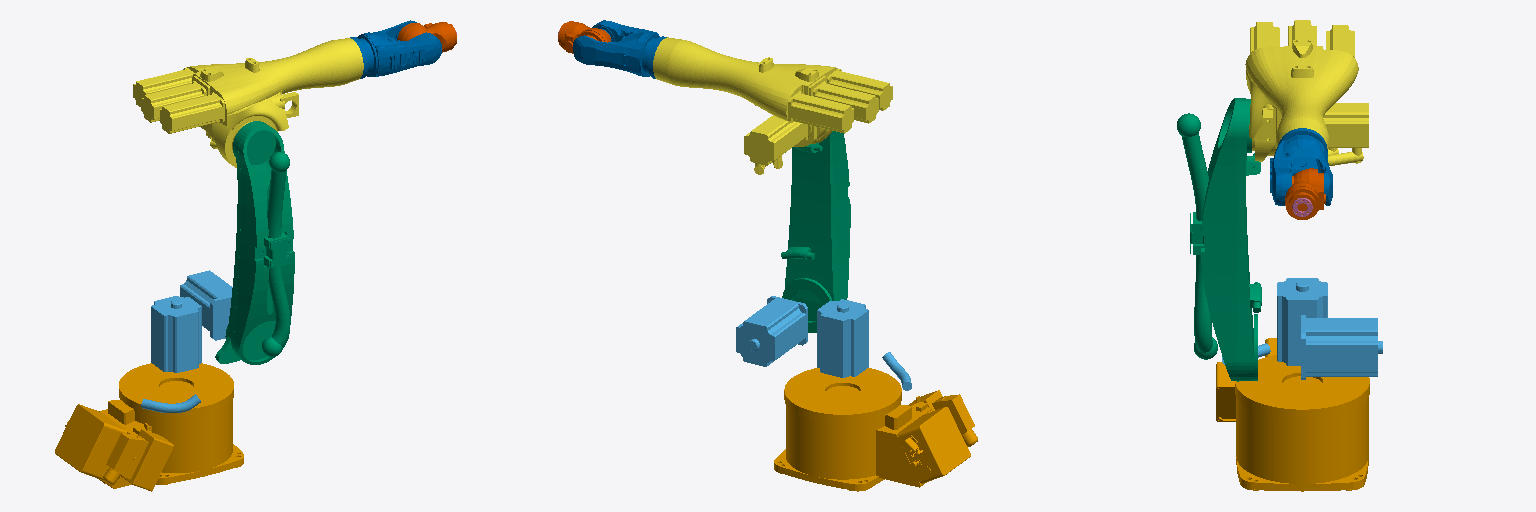
The robot description file, URDF, robot "kuka_kr5_arc":
<robot  name="kuka_kr5_arc">

<link name="Base"> 
 <visual> 
    <origin xyz="0 0 0" rpy="0 0 0" /> 
    <geometry> 
      <mesh filename="package://kuka_description/meshes/kuka_kr5_arc/visual/Base.stl" 
	scale=".001 .001 .001"/> 
      </geometry> 
 </visual> 
 <collision> 
    <origin xyz="0 0 0" rpy="0 0 0" /> 
    <geometry> 
      <mesh filename="package://kuka_description/meshes/kuka_kr5_arc/visual/Base.stl" 
	scale=".001 .001 .001"/> 
      </geometry> 
 </collision> 
</link>		

<link name="Link1"> 
 <visual> 
    <origin xyz="0 0 -0.225" rpy="0 0 0" /> 
    <geometry> 
      <mesh filename="package://kuka_description/meshes/kuka_kr5_arc/visual/Link1.stl" 
	scale=".001 .001 .001"/> 
      </geometry> 
 </visual> 
 <collision> 
    <origin xyz="0 0 -0.225" rpy="0 0 0" /> 
    <geometry> 
      <mesh filename="package://kuka_description/meshes/kuka_kr5_arc/visual/Link1.stl" 
	scale=".001 .001 .001"/> 
      </geometry> 
 </collision> 
</link>

<link name="Link2"> 
 <visual> 
    <origin xyz="-0.180 0 -0.400" rpy="0 0 0" /> 
    <geometry> 
      <mesh filename="package://kuka_description/meshes/kuka_kr5_arc/visual/Link2.stl" 
	scale=".001 .001 .001"/> 
      </geometry> 
 </visual> 
 <collision> 
    <origin xyz="-0.180 0 -0.400" rpy="0 0 0" /> 
    <geometry> 
      <mesh filename="package://kuka_description/meshes/kuka_kr5_arc/visual/Link2.stl" 
	scale=".001 .001 .001"/> 
      </geometry> 
 </collision> 
</link>			

<link name="Link3"> 
 <visual> 
    <origin xyz="-0.180 0 -1.0" rpy="0 0 0" /> 
    <geometry> 
      <mesh filename="package://kuka_description/meshes/kuka_kr5_arc/visual/Link3.stl" 
	scale=".001 .001 .001"/> 
      </geometry> 
 </visual> 
 <collision> 
    <origin xyz="-0.180 0 -1.0" rpy="0 0 0" /> 
    <geometry> 
      <mesh filename="package://kuka_description/meshes/kuka_kr5_arc/visual/Link3.stl" 
	scale=".001 .001 .001"/> 
      </geometry> 
 </collision> 
</link>			

<link name="Link4"> 
 <visual> 
    <origin xyz="-0.5835 0 -1.12" rpy="0 0 0" /> 
    <geometry> 
      <mesh filename="package://kuka_description/meshes/kuka_kr5_arc/visual/Link4.stl" 
	scale=".001 .001 .001"/> 
      </geometry> 
 </visual> 
 <collision> 
    <origin xyz="-0.5835 0 -1.12" rpy="0 0 0" /> 
    <geometry> 
      <mesh filename="package://kuka_description/meshes/kuka_kr5_arc/visual/Link4.stl" 
	scale=".001 .001 .001"/> 
      </geometry> 
 </collision> 
</link>	

<link name="Link5">
 <visual> 
    <origin xyz="-0.800 0 -1.12" rpy="0 0 0" /> 
    <geometry> 
      <mesh filename="package://kuka_description/meshes/kuka_kr5_arc/visual/Link5.stl" 
	scale=".001 .001 .001"/> 
      </geometry> 
 </visual> 
 <collision> 
    <origin xyz="-0.800 0 -1.12" rpy="0 0 0" /> 
    <geometry> 
      <mesh filename="package://kuka_description/meshes/kuka_kr5_arc/visual/Link5.stl" 
	scale=".001 .001 .001"/> 
      </geometry> 
 </collision>  
 </link>	

<link name="Link6"> 
 <visual> 
    <origin xyz="-0.9088 0 -1.12" rpy="0 0 0" /> 
    <geometry> 
      <mesh filename="package://kuka_description/meshes/kuka_kr5_arc/visual/Link6.stl" 
	scale=".001 .001 .001"/> 
      </geometry> 
 </visual> 
 <collision> 
    <origin xyz="-0.9088 0 -1.12" rpy="0 0 0" /> 
    <geometry> 
      <mesh filename="package://kuka_description/meshes/kuka_kr5_arc/visual/Link6.stl" 
	scale=".001 .001 .001"/> 
      </geometry> 
 </collision> 
</link>	

<link name="Link7"> 
 <visual> 
    <origin xyz="0 0 0" rpy="0 0 0" /> 
    <geometry> 
      <mesh filename="package://kuka_description/meshes/Welding_Torch/Assembly.stl" 
	scale=".01 .01 .01"/> 
      </geometry> 
 </visual> 
 <collision> 
    <origin xyz="0 0 0" rpy="0 0 0" /> 
    <geometry> 
      <mesh filename="package://kuka_description/meshes/Welding_Torch/Assembly.stl" 
	scale=".01 .01 .01"/> 
      </geometry> 
 </collision> 
</link>		

<link name="odom_combined"/>

<joint name="joint1" type="revolute">	
  <parent link="Base" /> 
  <child link="Link1" />
  <origin xyz="0 0 0.225" rpy="0 0 0" />	 
  <axis xyz="0 0 -1" />
  <limit lower="-2.70526034" upper="2.70526034" effort="0" velocity="0" />
</joint>

<joint name="joint2" type="revolute"> 
  <parent link="Link1" /> 
  <child link="Link2" /> 
  <origin xyz="0.180 0 0.175" rpy="0 0 0" />
  <axis xyz="0 1 0" />
  <limit lower="-3.1415927" upper="1.13446401" effort="0" velocity="0" />	
</joint>

<joint name="joint3" type="revolute"> 
  <parent link="Link2" /> 
  <child link="Link3" /> 
  <origin xyz="0 0 0.600" rpy="0 0 0" />
  <axis xyz="0 1 0" />
  <limit lower="-0.2617994" upper="2.75762022" effort="0" velocity="0" />
</joint>

<joint name="joint4" type="revolute"> 
  <parent link="Link3" /> 
  <child link="Link4" /> 
  <origin xyz="0.4035 0 0.120" rpy="0 0 0" />
  <axis xyz="-1 0 0" />
  <limit lower="-6.10865238" upper="6.10865238" effort="0" velocity="0" />
</joint>

<joint name="joint5" type="revolute"> 
  <parent link="Link4" /> 
  <child link="Link5" /> 
  <origin xyz="0.2165 0 0" rpy="0 0 0" />
  <axis xyz="0 1 0" />
  <limit lower="-2.26892803" upper="2.26892803" effort="0" velocity="0" />
</joint>

<joint name="joint6" type="revolute"> 
  <parent link="Link5" /> 
  <child link="Link6" /> 
  <origin xyz="0.1088 0 0" rpy="0 0 0" />
  <axis xyz="-1 0 0" />
  <limit lower="-6.10865238" upper="6.10865238" effort="0" velocity="0" />
</joint>

<joint name="joint7" type="fixed"> 
  <parent link="Link6" /> 
  <child link="Link7" /> 
  <origin xyz="0.007 0 0" rpy="0 0 0" />
  <axis xyz="0 0 0" />
</joint>

<joint name="fixed" type="fixed">
  <parent link="odom_combined"/> 
  <child link="Base"/> 
</joint>  
</robot>

--- What the picture shows (computed from the rendered views, not written in the file) ---
Views: 3 orthographic renders of the robot side by side, from view 1: azimuth 30°, elevation 25°; view 2: azimuth 150°, elevation 25°; view 3: azimuth 270°, elevation 25°.
Model kuka_kr5_arc with 9 links and 8 joints (6 revolute, 2 fixed), rooted at odom_combined, posed all joints at 0.
Visible links, largest first — view 1: Base, Link2, Link3, Link1, Link4, Link5; view 2: Base, Link3, Link2, Link1, Link4, Link5; view 3: Base, Link2, Link3, Link1, Link4, Link5.
Boxes of the visible links, x1,y1,x2,y2 form: Base: [55, 363, 243, 491]; Link2: [215, 121, 294, 364]; Link3: [133, 38, 363, 167]; Link1: [141, 270, 232, 412]; Link4: [350, 20, 441, 78]; Link5: [397, 22, 456, 52]; Base: [774, 368, 977, 491]; Link3: [653, 37, 892, 174]; Link2: [781, 131, 850, 332]; Link1: [736, 296, 911, 390]; Link4: [573, 20, 666, 78]; Link5: [558, 21, 610, 53]; Base: [1216, 338, 1369, 491]; Link2: [1177, 98, 1261, 381]; Link3: [1245, 20, 1368, 165]; Link1: [1222, 278, 1382, 379]; Link4: [1270, 128, 1332, 205]; Link5: [1285, 168, 1325, 219].
Size in the robot's own frame: 1.28 by 0.5075 by 1.19 metres.
Meshes: 8 distinct files referenced, 7 mesh visuals loaded (7 binary STL); not drawn: 1 (reference not matched to a file when rendering).